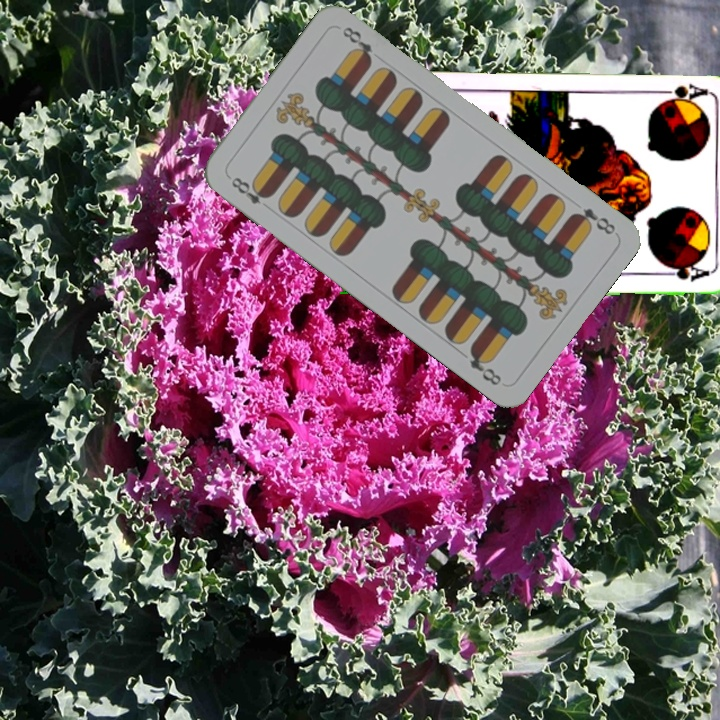E8: (567, 204, 619, 238), (227, 173, 274, 207)
SA: (650, 80, 709, 102)
